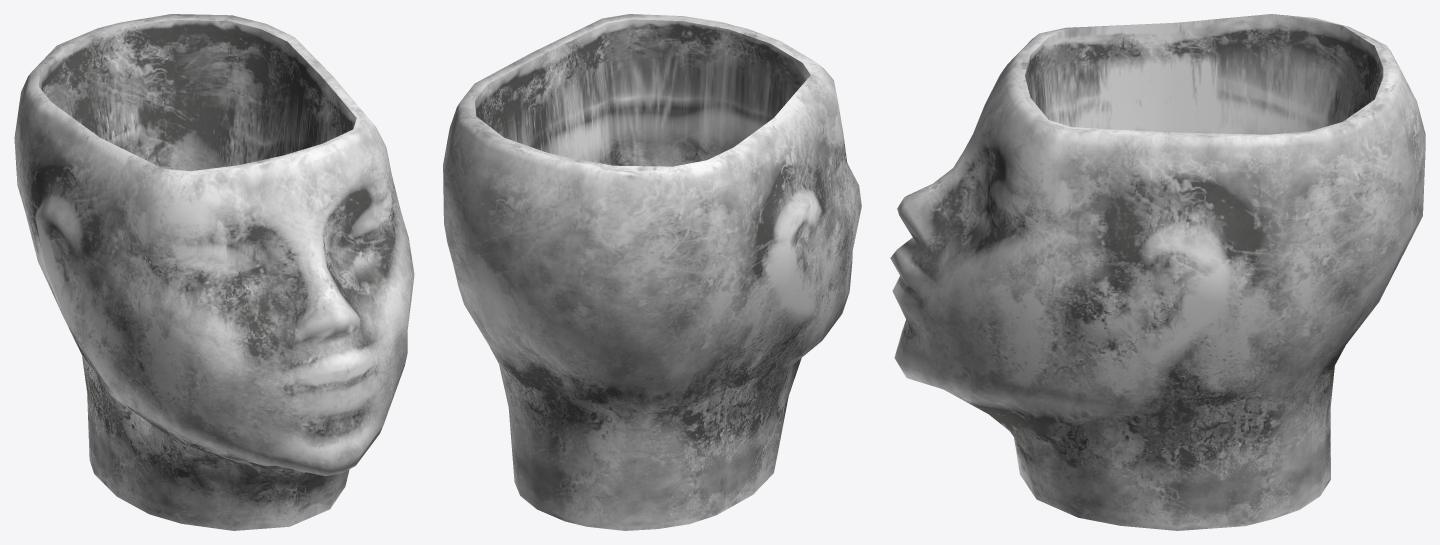
The model's file is Head.fbx.
3 renders of one model, left to right at view 1: azimuth 30°, elevation 25°; view 2: azimuth 150°, elevation 25°; view 3: azimuth 270°, elevation 25°, orthographic. The views are drawn at different scales.
Visible parts, largest first — view 1: Head; view 2: Head; view 3: Head.
Part boxes in pixels (x1,y1,x2,y2): Head: (14, 14, 414, 530); Head: (443, 14, 861, 530); Head: (890, 14, 1425, 530).
Size of the model in its own units: 6.38 by 7.25 by 8.8.
